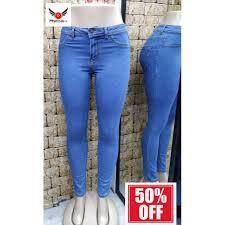pants: (55, 24, 133, 200)
